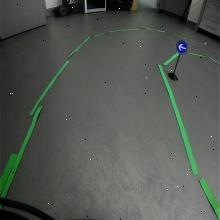left: (176, 40, 187, 54)
